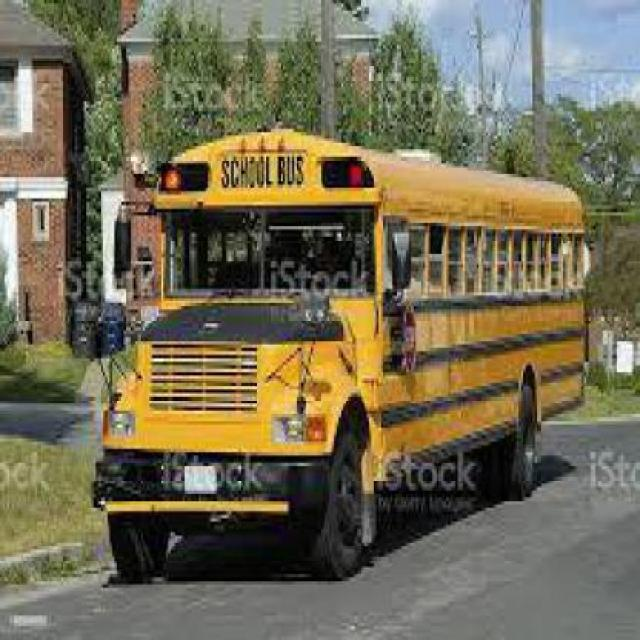bus: (98, 130, 584, 578)
